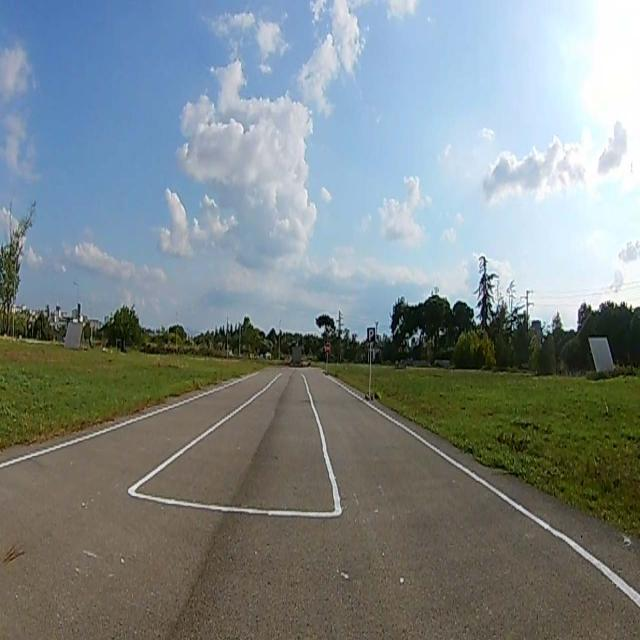park: (367, 328, 375, 342)
